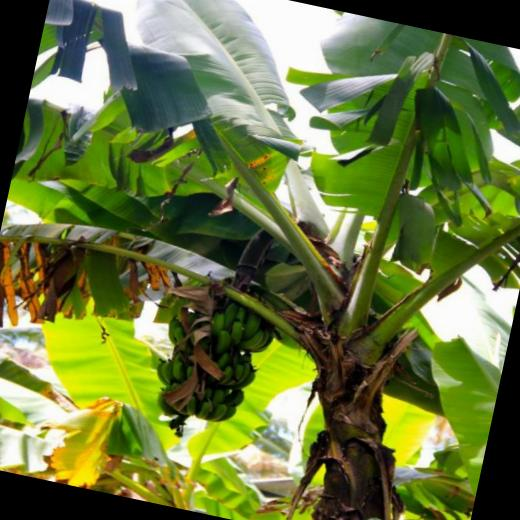Banana: (148, 270, 282, 432), (208, 308, 226, 333)
